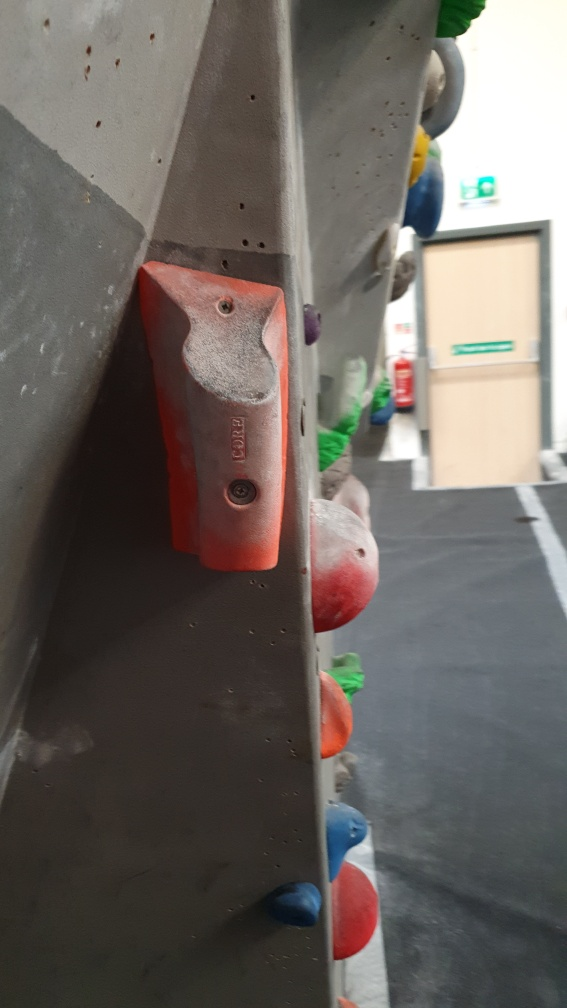Pinch: (135, 256, 291, 579)
Sloper: (306, 497, 385, 636), (324, 854, 380, 968)
